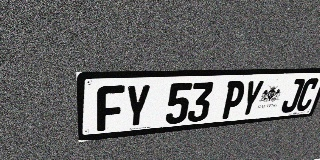3: (187, 82, 214, 122)
5: (165, 83, 193, 125)
C: (294, 78, 320, 112)
F: (97, 85, 125, 131)
J: (279, 79, 306, 113)
P: (220, 81, 247, 119)
Y: (123, 84, 151, 129), (238, 80, 265, 117)
